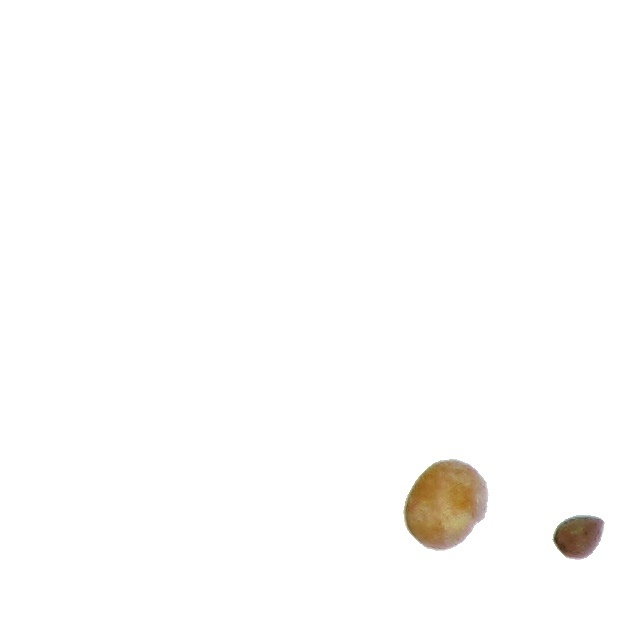buckwheat: (551, 514, 606, 561)
mais: (402, 458, 490, 552)
